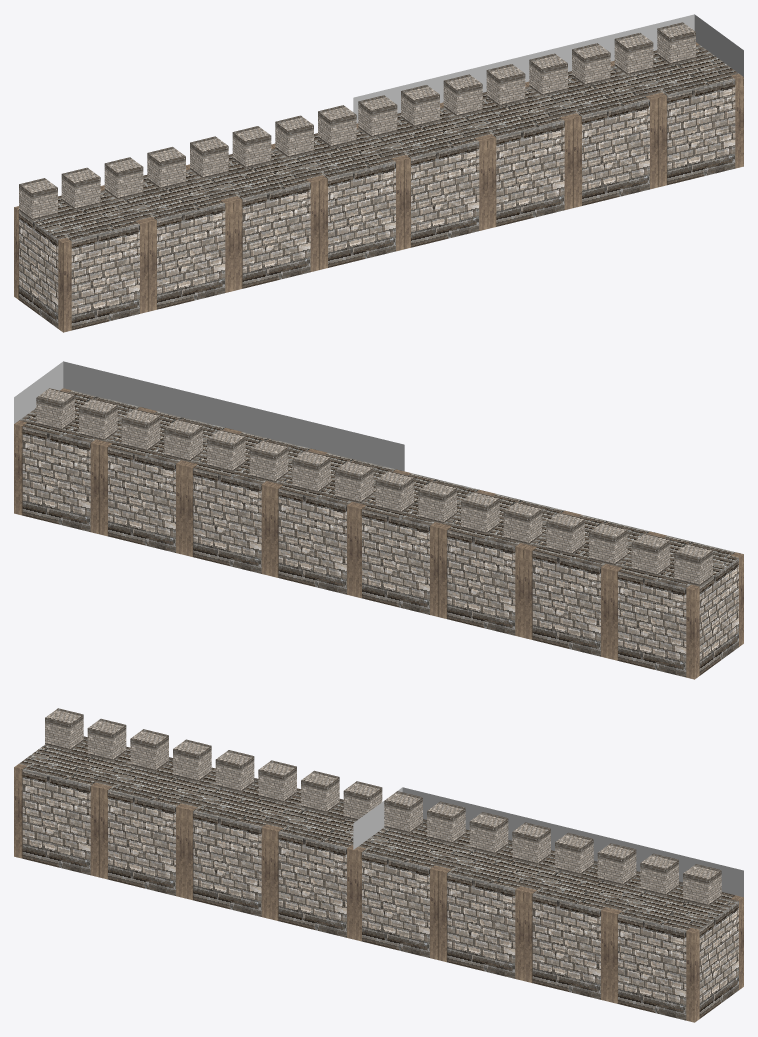
The model's file is wall_large.glb.
3 views of the same model, one above another, from view 1: azimuth 30°, elevation 25°; view 2: azimuth 150°, elevation 25°; view 3: azimuth 330°, elevation 25° (orthographic).
Visible parts, largest first — view 1: wall_med_0, wall_med_2, wall_med_1.001, wall_med_2.001, wall_med_1, wall_med_3.001, wall_med_3, wall_med_0.001, wall_medium-colonly.001, Merlon_2_F, Merlon_3_F.001, Merlon_0_F.001 (+13 smaller); view 2: wall_med_0, wall_medium-colonly.001, wall_med_1.001, wall_med_2, wall_med_1, wall_med_2.001, wall_med_3.001, wall_med_3, wall_med_0.001, Merlon_1_B, Merlon_4_B, Merlon_5_B.001 (+13 smaller); view 3: wall_med_3.001, wall_med_2.001, wall_med_0, wall_med_1.001, wall_med_2, wall_med_1, wall_med_0.001, wall_med_3, wall_medium-colonly.001, Merlon_7_F.001, Merlon_5_F, Merlon_6_F.001 (+13 smaller).
Boxes of the visible parts, box(x1,y1,x2,y2) form: wall_med_0: box(14, 188, 148, 332); wall_med_2: box(186, 146, 319, 290); wall_med_1.001: box(440, 84, 573, 228); wall_med_2.001: box(525, 63, 658, 207); wall_med_1: box(100, 167, 233, 311); wall_med_3.001: box(610, 42, 743, 186); wall_med_3: box(271, 125, 404, 269); wall_med_0.001: box(356, 105, 487, 248); wall_medium-colonly.001: box(353, 14, 743, 123); Merlon_2_F: box(117, 167, 143, 199); Merlon_3_F.001: box(499, 74, 525, 106); Merlon_0_F.001: box(371, 105, 397, 137); wall_med_0: box(609, 533, 743, 679); wall_medium-colonly.001: box(14, 361, 404, 471); wall_med_1.001: box(184, 430, 318, 575); wall_med_2: box(438, 492, 572, 637); wall_med_1: box(524, 512, 658, 658); wall_med_2.001: box(99, 409, 233, 554); wall_med_3.001: box(14, 388, 147, 533); wall_med_3: box(353, 471, 487, 616); wall_med_0.001: box(270, 450, 401, 595); Merlon_1_B: box(631, 543, 657, 575); Merlon_4_B: box(503, 512, 529, 544); Merlon_5_B.001: box(121, 419, 147, 451); wall_med_3.001: box(609, 881, 743, 1022); wall_med_2.001: box(524, 861, 640, 1001); wall_med_0: box(14, 736, 130, 877); wall_med_1.001: box(438, 840, 554, 980); wall_med_2: box(184, 778, 300, 918); wall_med_1: box(99, 757, 215, 898); wall_med_0.001: box(353, 819, 469, 959); wall_med_3: box(270, 799, 385, 939); wall_medium-colonly.001: box(353, 787, 743, 897); Merlon_7_F.001: box(683, 873, 708, 906); Merlon_5_F: box(258, 770, 283, 802); Merlon_6_F.001: box(640, 863, 665, 895).
Size of what is drawn, in the model's own units: 15.95 by 2.6 by 2.
26 materials, 26 textured.
